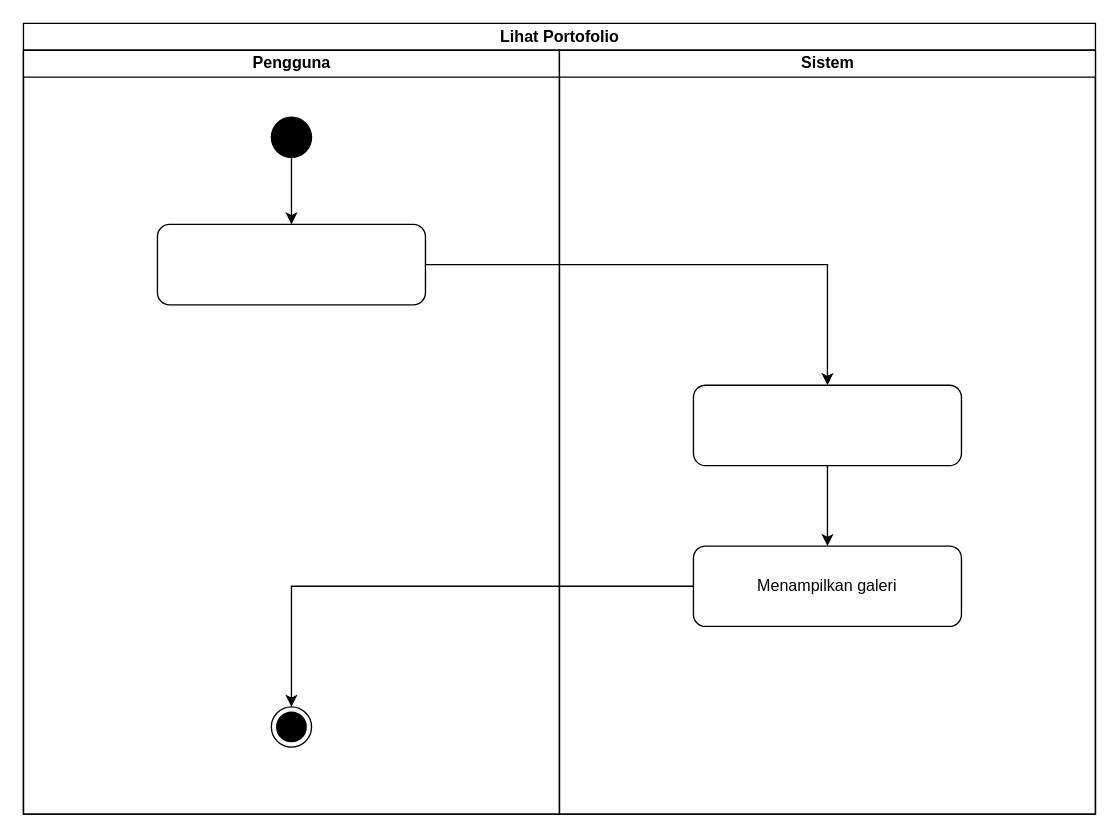
Image size: 1119x838. Some labels were removed from this diagram. The centre of each missing label's shape, as x and y in pixels:
"Klik tab portofolio pada detail MUA" goes at point (290, 264).
"Memuat galeri foto hasil riasan MUA" goes at point (826, 425).
